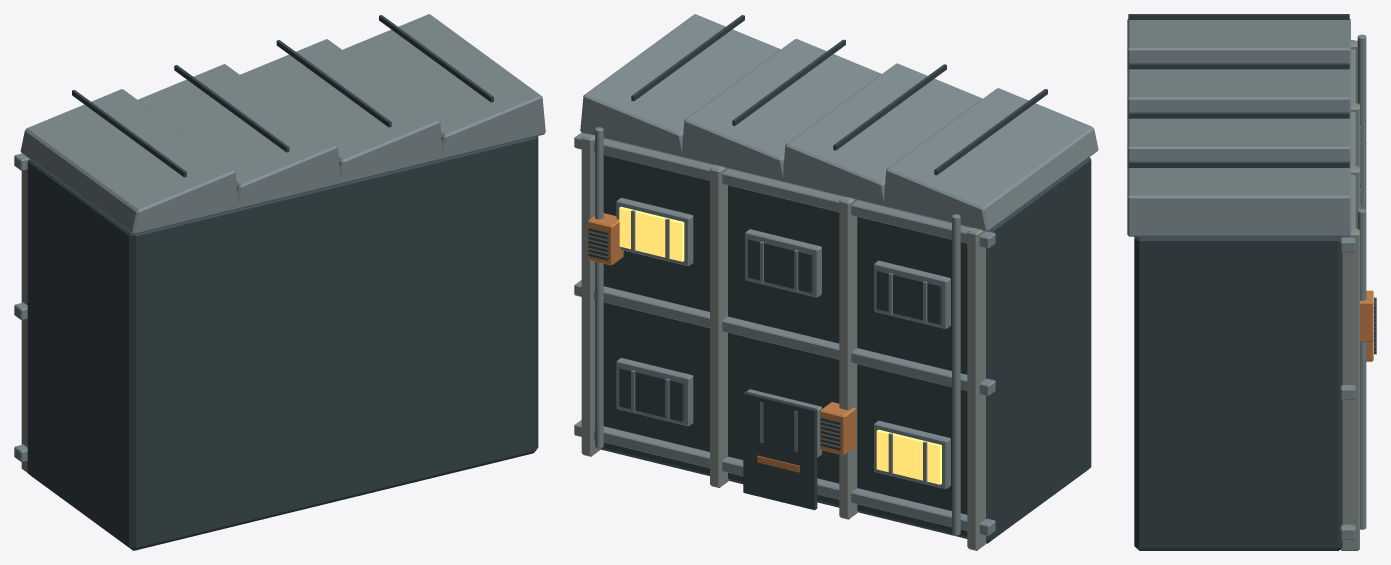
Rendered from district_facade.glb.
3 views of the same model, side by side, from view 1: azimuth 30°, elevation 25°; view 2: azimuth 150°, elevation 25°; view 3: azimuth 270°, elevation 25° (orthographic).
Visible parts, largest first — view 1: district_facade_Surface; view 2: district_facade_Surface; view 3: district_facade_Surface.
Boxes of the visible parts, x1,y1,x2,y2 form: district_facade_Surface: (14, 14, 545, 550); district_facade_Surface: (574, 14, 1098, 550); district_facade_Surface: (1127, 14, 1376, 550).
Size of the model in its own units: 8.22 by 6.94 by 4.28.
Materials: 1 (1 with a texture image).
